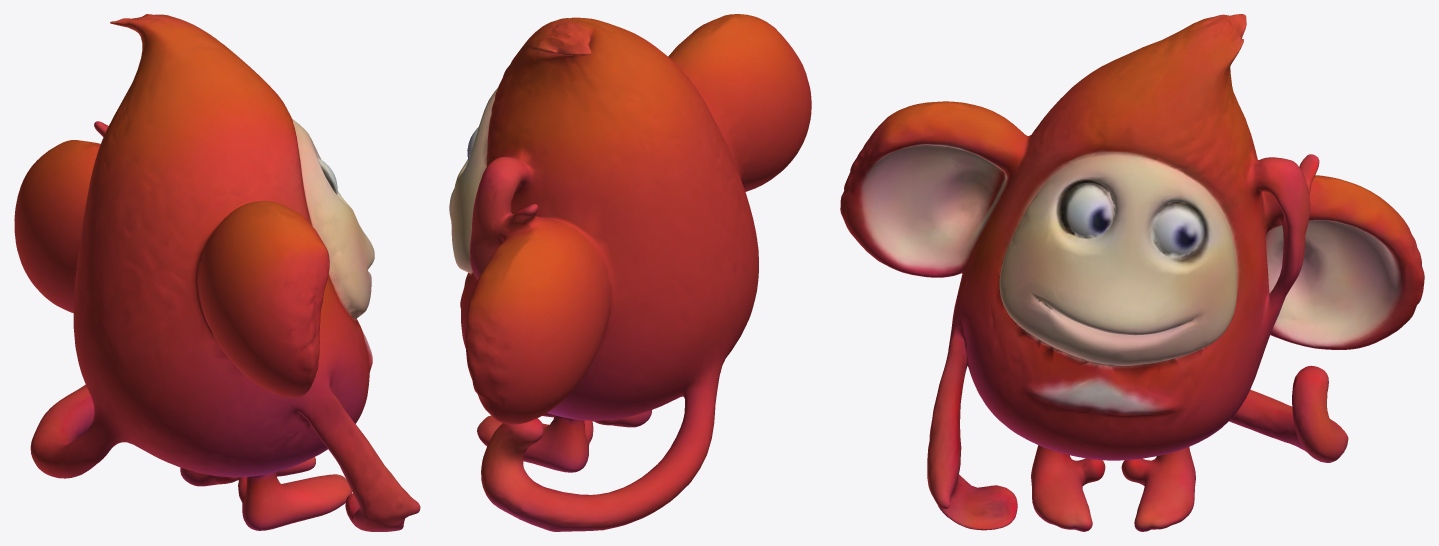
Rendered from mini_plush.glb.
3 views of the same model, side by side, from view 1: azimuth 30°, elevation 25°; view 2: azimuth 150°, elevation 25°; view 3: azimuth 270°, elevation 25° (orthographic).
Visible parts, largest first — view 1: tripo_node_9d88ab9d-90dd-4686-8909-17a9f85b3f60; view 2: tripo_node_9d88ab9d-90dd-4686-8909-17a9f85b3f60; view 3: tripo_node_9d88ab9d-90dd-4686-8909-17a9f85b3f60.
Boxes of the visible parts, x1=… form: tripo_node_9d88ab9d-90dd-4686-8909-17a9f85b3f60: x1=14, y1=14, x2=420, y2=531; tripo_node_9d88ab9d-90dd-4686-8909-17a9f85b3f60: x1=449, y1=14, x2=811, y2=531; tripo_node_9d88ab9d-90dd-4686-8909-17a9f85b3f60: x1=840, y1=14, x2=1424, y2=531.
Size of the model in its own units: 0.187 by 0.2999 by 0.3474.
1 material, 1 textured.
